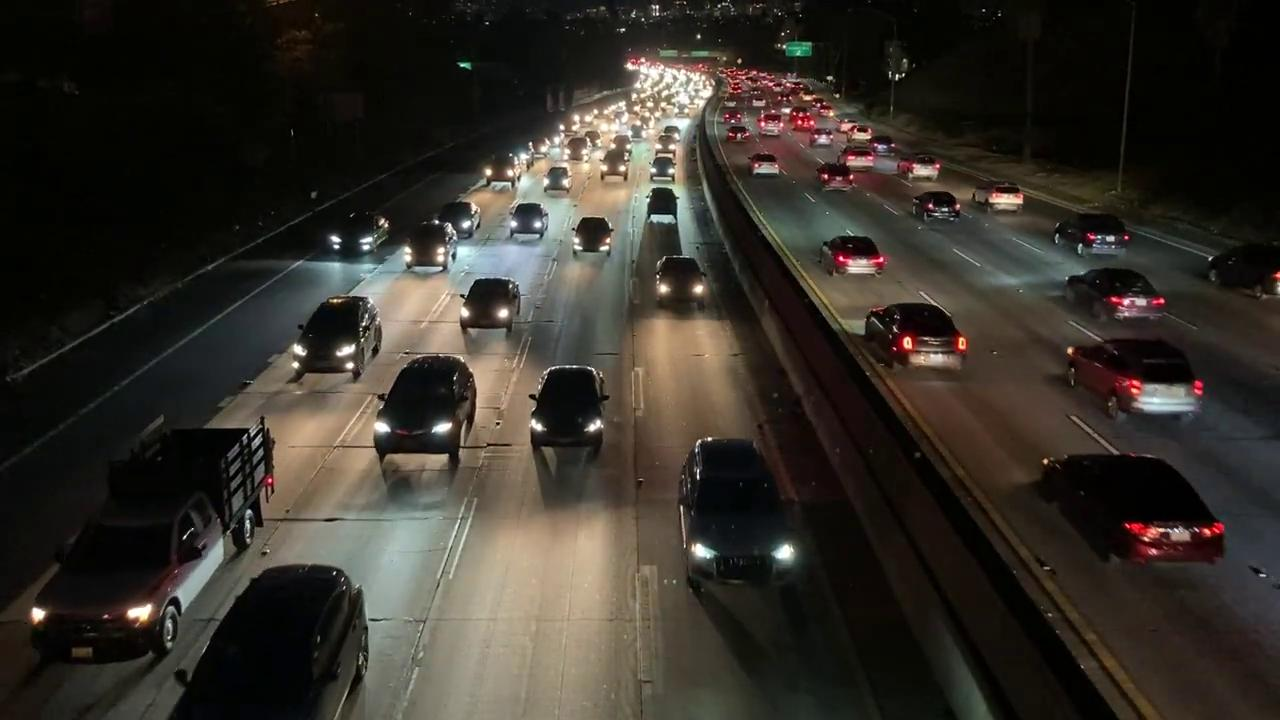car: (169, 558, 377, 719), (1041, 440, 1226, 570), (669, 432, 810, 597), (1063, 336, 1214, 424), (370, 353, 479, 467), (859, 300, 973, 379), (521, 363, 607, 455), (292, 293, 379, 381), (1062, 261, 1169, 328), (1208, 236, 1279, 304), (457, 273, 526, 332), (1051, 211, 1134, 259), (814, 231, 888, 282), (654, 255, 710, 312), (325, 210, 397, 253), (402, 222, 460, 272), (971, 181, 1027, 216), (439, 200, 483, 237), (573, 216, 615, 254), (910, 191, 961, 222), (481, 151, 523, 187), (510, 202, 550, 239), (646, 184, 681, 226), (896, 151, 939, 184), (835, 143, 877, 173), (814, 163, 854, 192), (539, 165, 575, 194), (744, 152, 781, 179), (599, 150, 631, 181), (649, 154, 679, 181), (866, 134, 897, 157), (759, 113, 785, 138), (726, 124, 751, 144), (808, 128, 834, 147), (847, 124, 870, 142), (837, 119, 857, 132)
truck: (27, 411, 280, 663)
